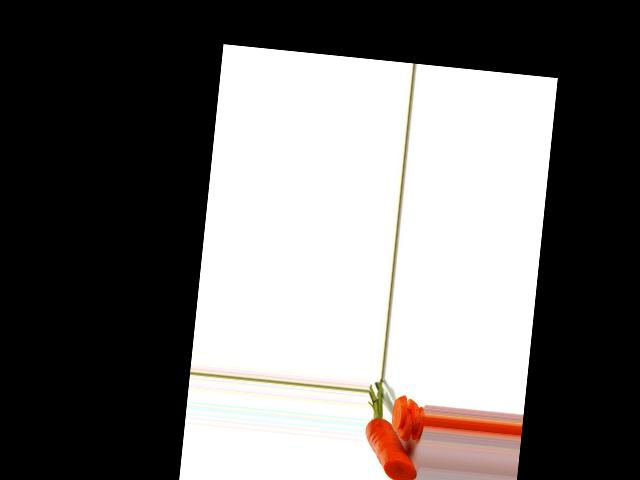carrot: (360, 416, 418, 480)
